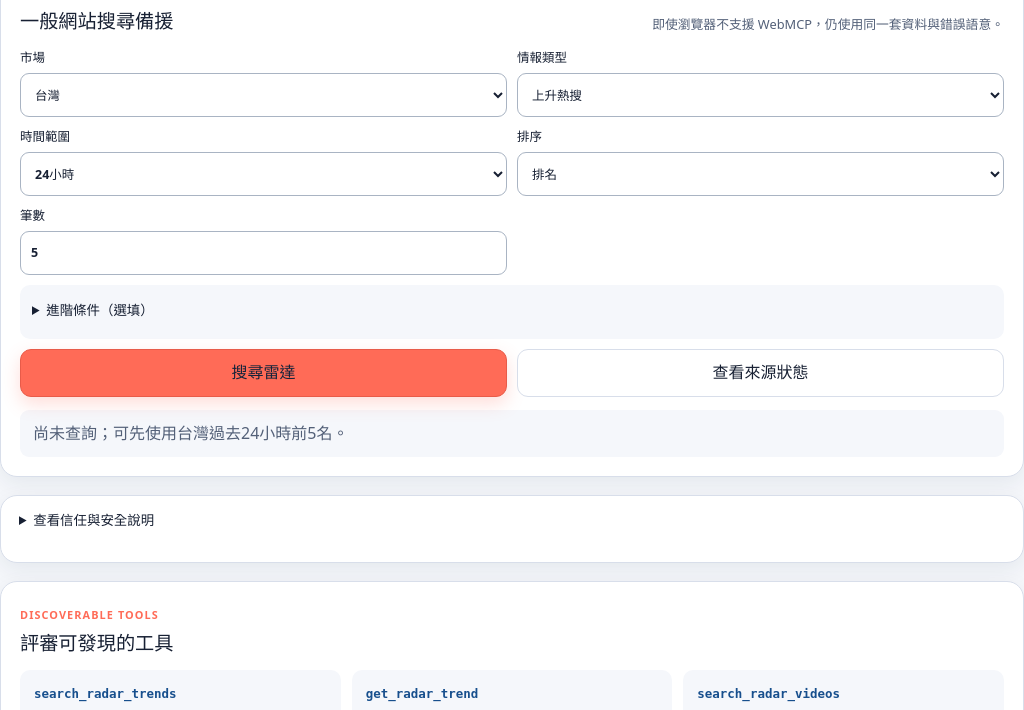
Test: 熱門雷達唯讀WebMCP工具 › 一般網站不把非HTTPS外部網址渲染為可點擊連結
(page scrolled)
Click the button "搜尋雷達".
click(264, 373)  # box [20,349,507,397]
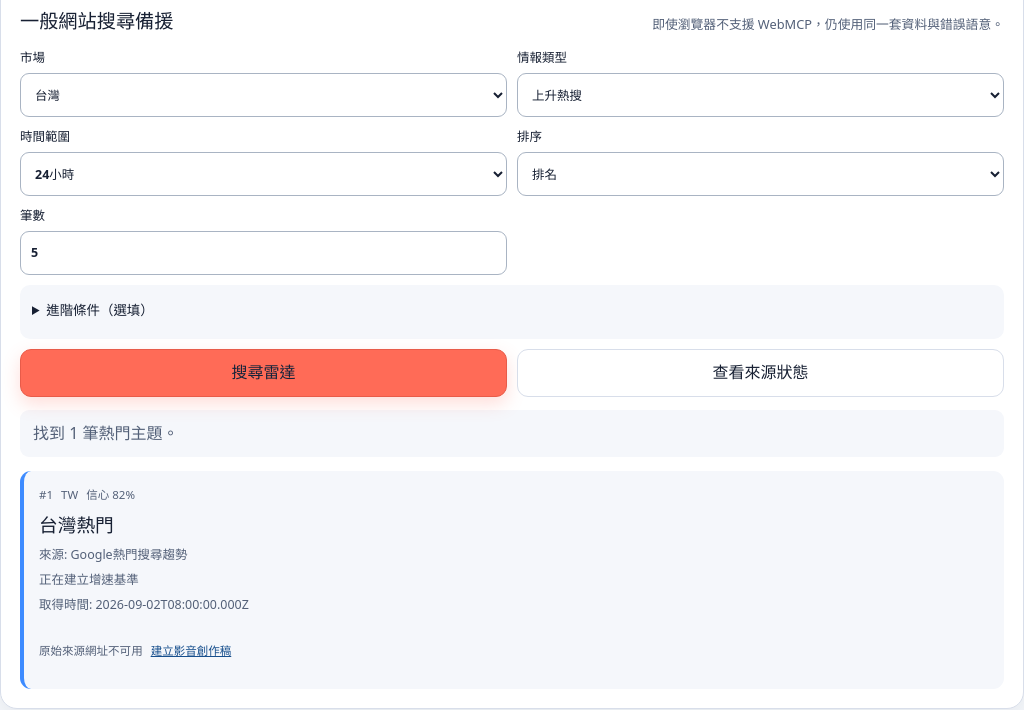
Now the text "原始來源網址不可用" is shown, box [39,642,143,661]
